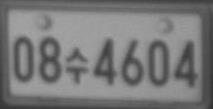0: (12, 35, 35, 82), (147, 39, 170, 86)
4: (173, 39, 200, 88), (93, 38, 118, 86)
6: (120, 39, 144, 87)
8: (38, 35, 62, 84)
수: (65, 47, 89, 85)
